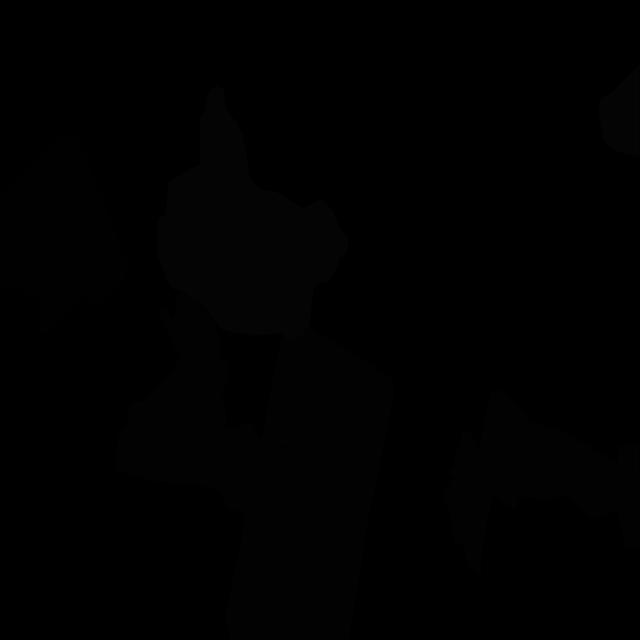cardboard: (225, 327, 394, 640), (115, 289, 290, 567), (477, 388, 640, 548), (441, 431, 493, 580), (618, 445, 639, 474)
rigid_plastic: (0, 133, 128, 335)
soft_plastic: (157, 86, 349, 340), (599, 64, 640, 156)
